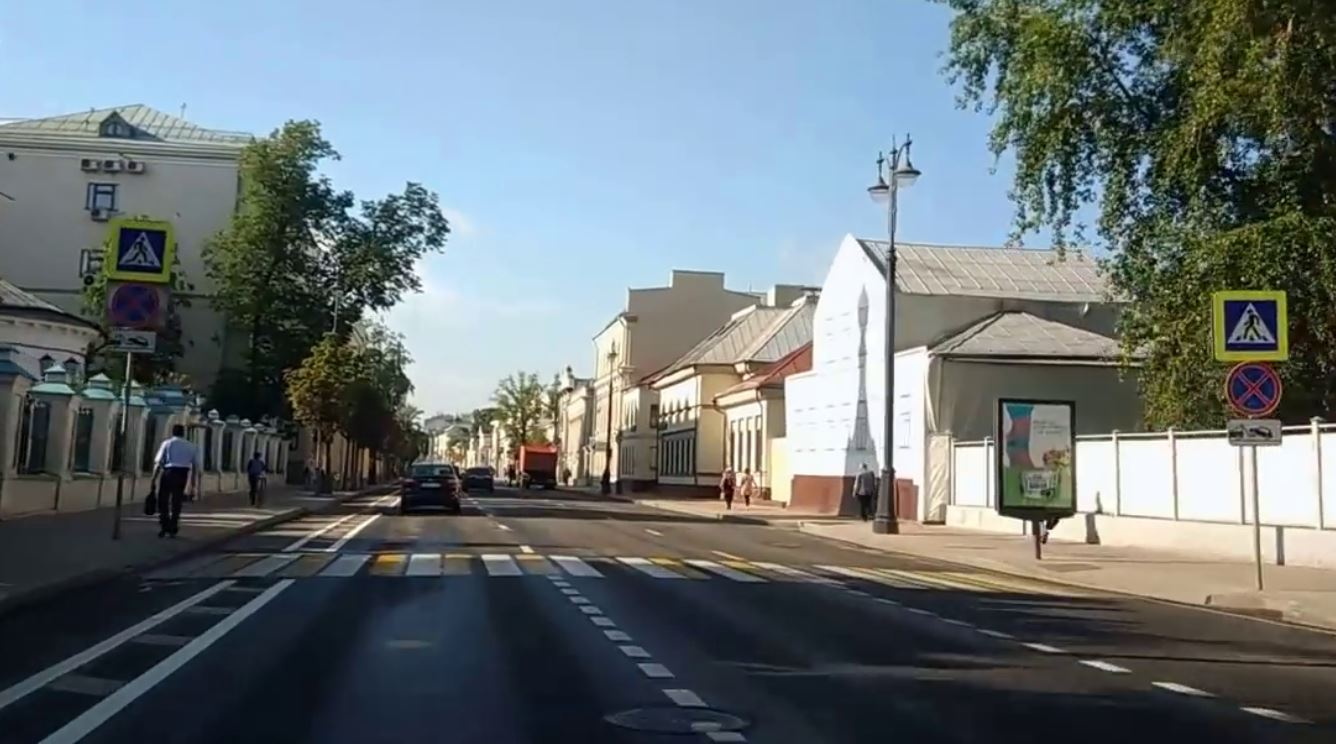Yaya Gecidi: (1221, 297, 1282, 352), (113, 223, 165, 271)
